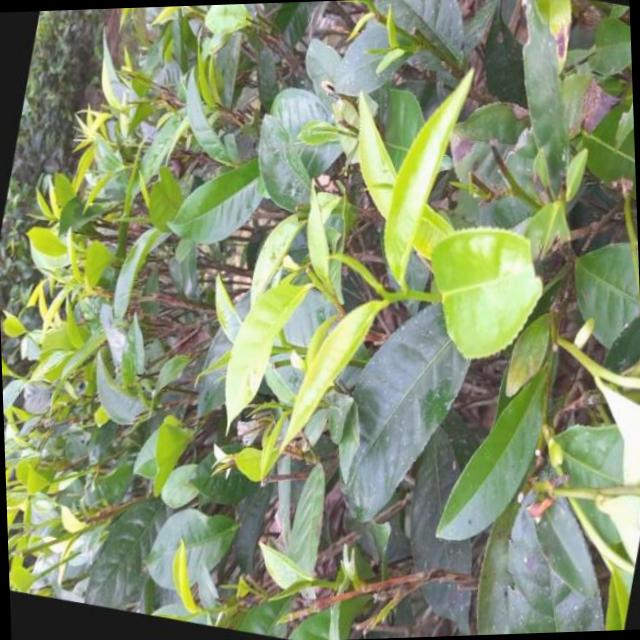Stem: (405, 286, 431, 301), (378, 13, 386, 24)
